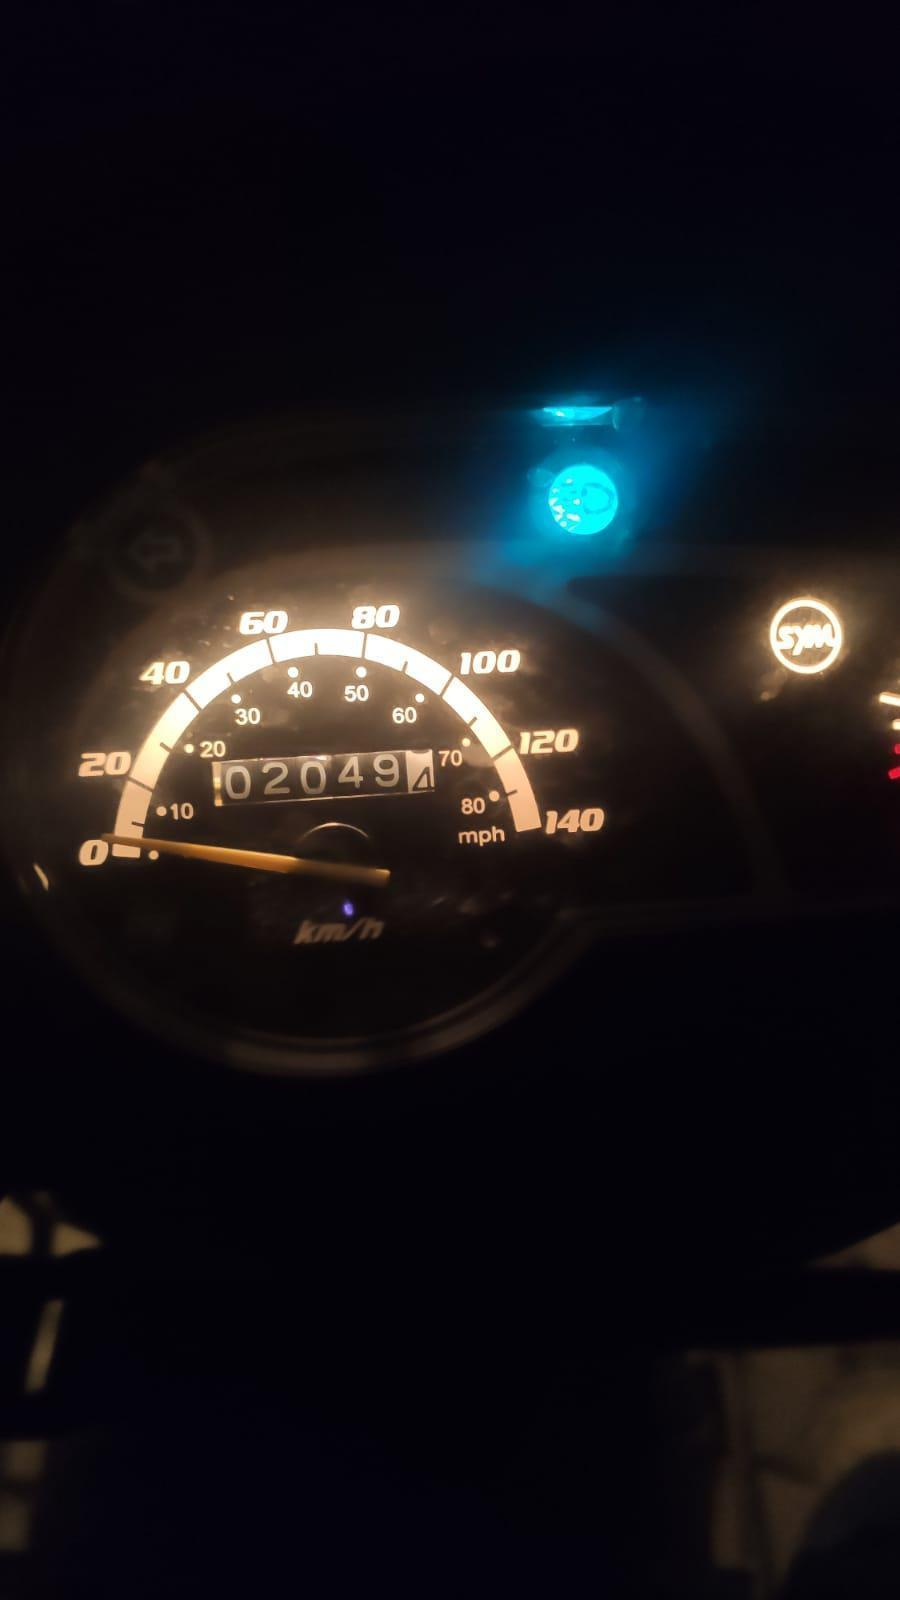0: (221, 764, 251, 802), (298, 762, 329, 797), (212, 738, 227, 762)
2: (258, 759, 290, 798)
4: (336, 749, 365, 793), (408, 763, 436, 798)
7: (437, 747, 449, 767)
9: (370, 751, 401, 790)
odometer: (207, 742, 449, 815)
